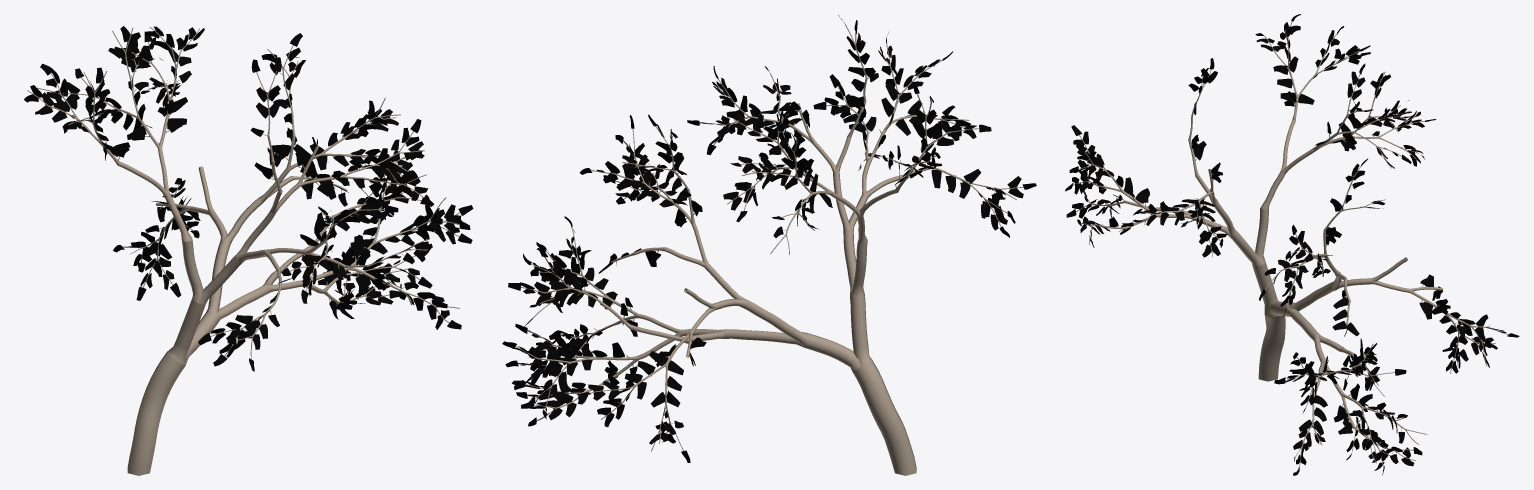
The model's file is DifferentTree1.fbx.
3 renders of one model, left to right at view 1: azimuth 30°, elevation 25°; view 2: azimuth 150°, elevation 25°; view 3: azimuth 270°, elevation 25°, orthographic. The views are drawn at different scales.
Visible parts, largest first — view 1: treeLeafy1MainShape; view 2: treeLeafy1MainShape; view 3: treeLeafy1MainShape.
Boxes of the visible parts, <box> form: treeLeafy1MainShape: <box>24,26,473,475</box>; treeLeafy1MainShape: <box>502,15,1036,475</box>; treeLeafy1MainShape: <box>1065,14,1519,475</box>.
Size of the model in its own units: 8.82 by 8 by 9.33.
